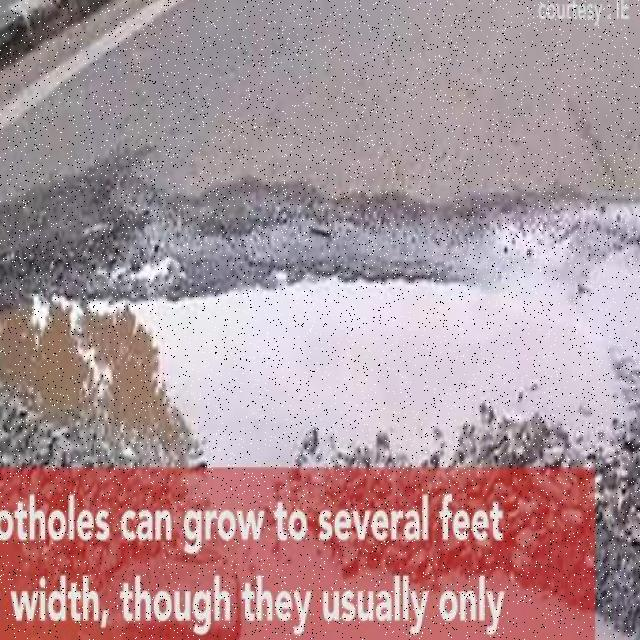pothole: (0, 255, 640, 462)
